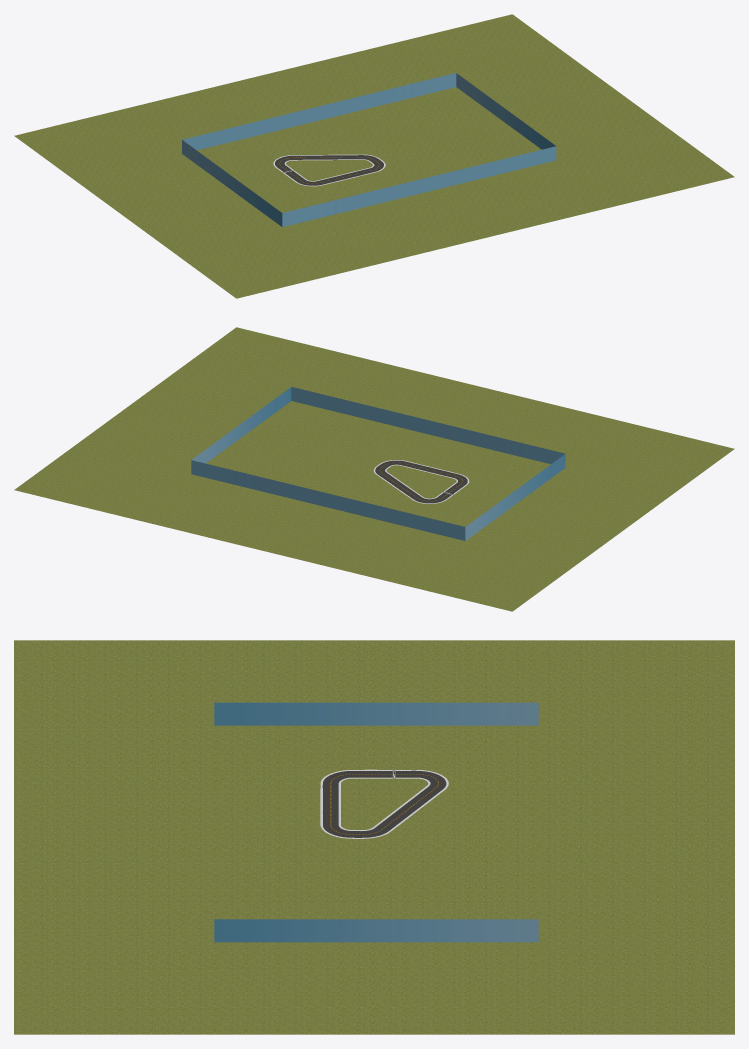
File: Trapezoid.dae
The picture shows the model from 3 angles, top to bottom: view 1: azimuth 30°, elevation 25°; view 2: azimuth 150°, elevation 25°; view 3: azimuth 270°, elevation 25°; orthographic projection. The views are drawn at different scales.
Visible parts, largest first — view 1: field, wall, road; view 2: field, wall, road; view 3: field, wall, road, ol.
Part boxes in pixels (x1,y1,x2,y2): field: (14, 14, 734, 298); wall: (182, 73, 556, 227); road: (275, 155, 383, 185); field: (14, 327, 734, 611); wall: (191, 387, 565, 540); road: (375, 460, 467, 503); field: (14, 640, 734, 1034); wall: (214, 702, 538, 942); road: (322, 770, 446, 838); ol: (320, 769, 448, 838).
Size of the model in its own units: 29.41 by 22.74 by 0.8.
Materials: 7 (7 with a texture image).
